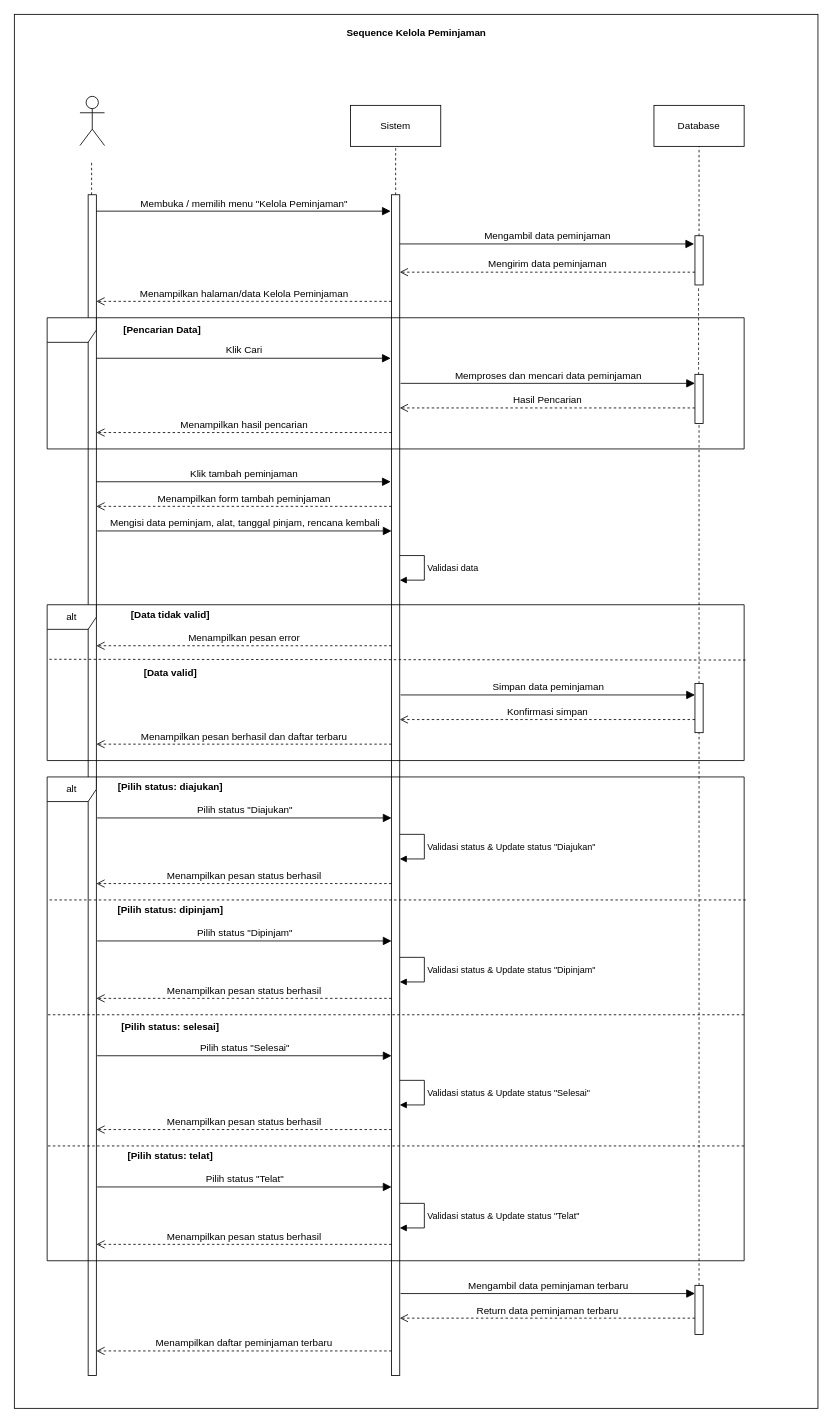
This 832x1423 diagram has some shape labels left out. The box of each missing label's shape, as (x1, y1, x2, y2) in pixels:
Admin: (79, 96, 105, 146)
opt: (46, 317, 744, 449)
